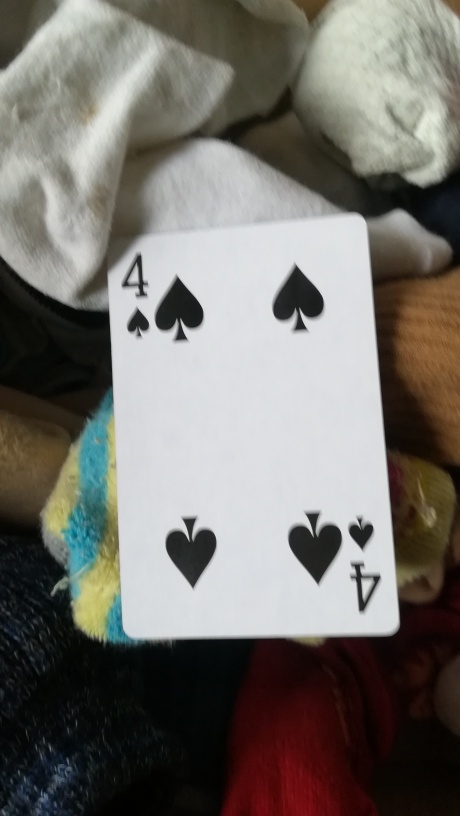ht 4: (94, 214, 401, 642)
